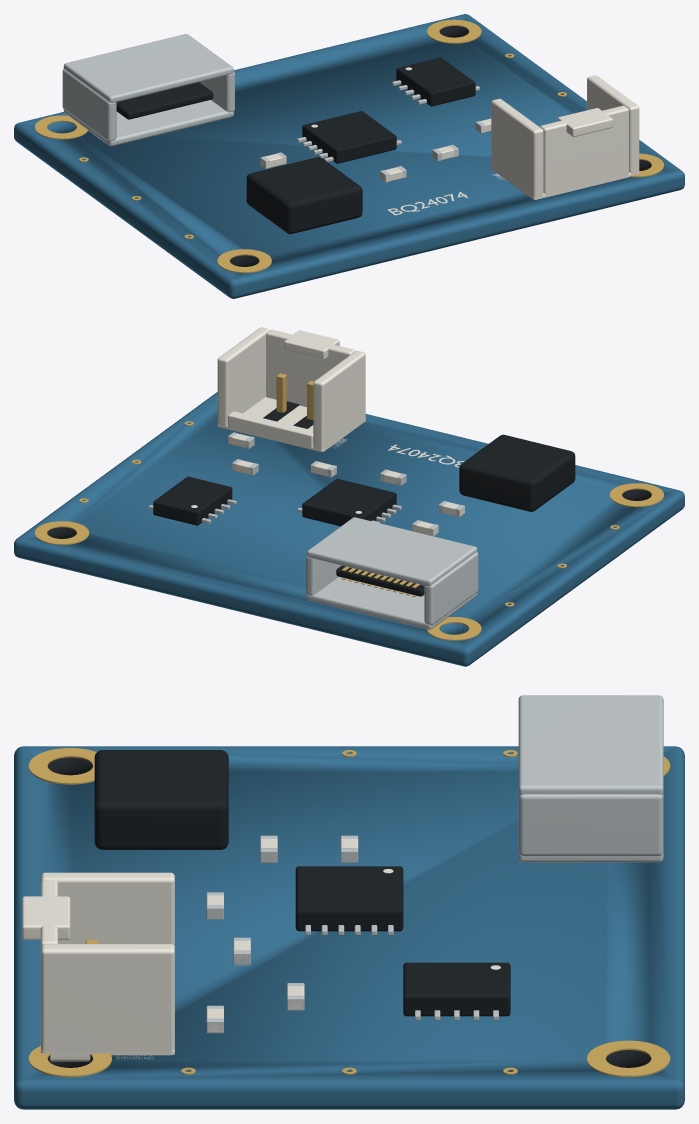
The model's file is charger.glb.
3 renders of one model, top to bottom at view 1: azimuth 30°, elevation 25°; view 2: azimuth 150°, elevation 25°; view 3: azimuth 270°, elevation 25°, orthographic. The views are drawn at different scales.
Visible parts, largest first — view 1: charger / Imported CAD, charger / Black, charger / Tin, charger / Ceramic, charger / Gold; view 2: charger / Imported CAD, charger / Ceramic, charger / Tin, charger / Black, charger / Gold; view 3: charger / Imported CAD, charger / Tin, charger / Ceramic, charger / Black, charger / Gold.
Boxes of the visible parts, <box> form: charger / Imported CAD: <box>14,14,684,298</box>; charger / Black: <box>116,57,475,234</box>; charger / Tin: <box>62,34,506,182</box>; charger / Ceramic: <box>260,67,639,215</box>; charger / Gold: <box>35,19,663,272</box>; charger / Imported CAD: <box>14,392,684,666</box>; charger / Ceramic: <box>191,327,464,535</box>; charger / Tin: <box>148,432,478,629</box>; charger / Black: <box>153,401,575,596</box>; charger / Gold: <box>35,373,663,640</box>; charger / Imported CAD: <box>14,746,684,1109</box>; charger / Tin: <box>116,695,663,1059</box>; charger / Ceramic: <box>22,839,500,1061</box>; charger / Black: <box>94,750,510,1016</box>; charger / Gold: <box>28,748,670,1077</box>.
Bounding box in the file's own units: 30 × 5.56 × 25.
